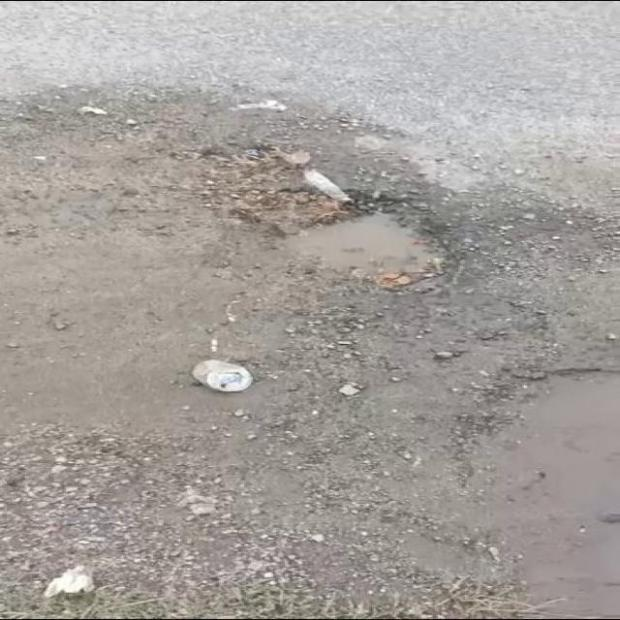lubang: (470, 373, 619, 615), (248, 187, 473, 289), (198, 143, 311, 211)
